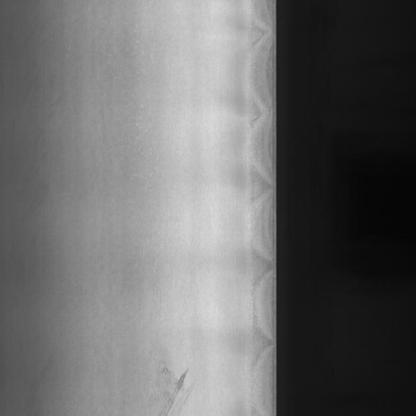water_spot: (156, 346, 191, 416)
